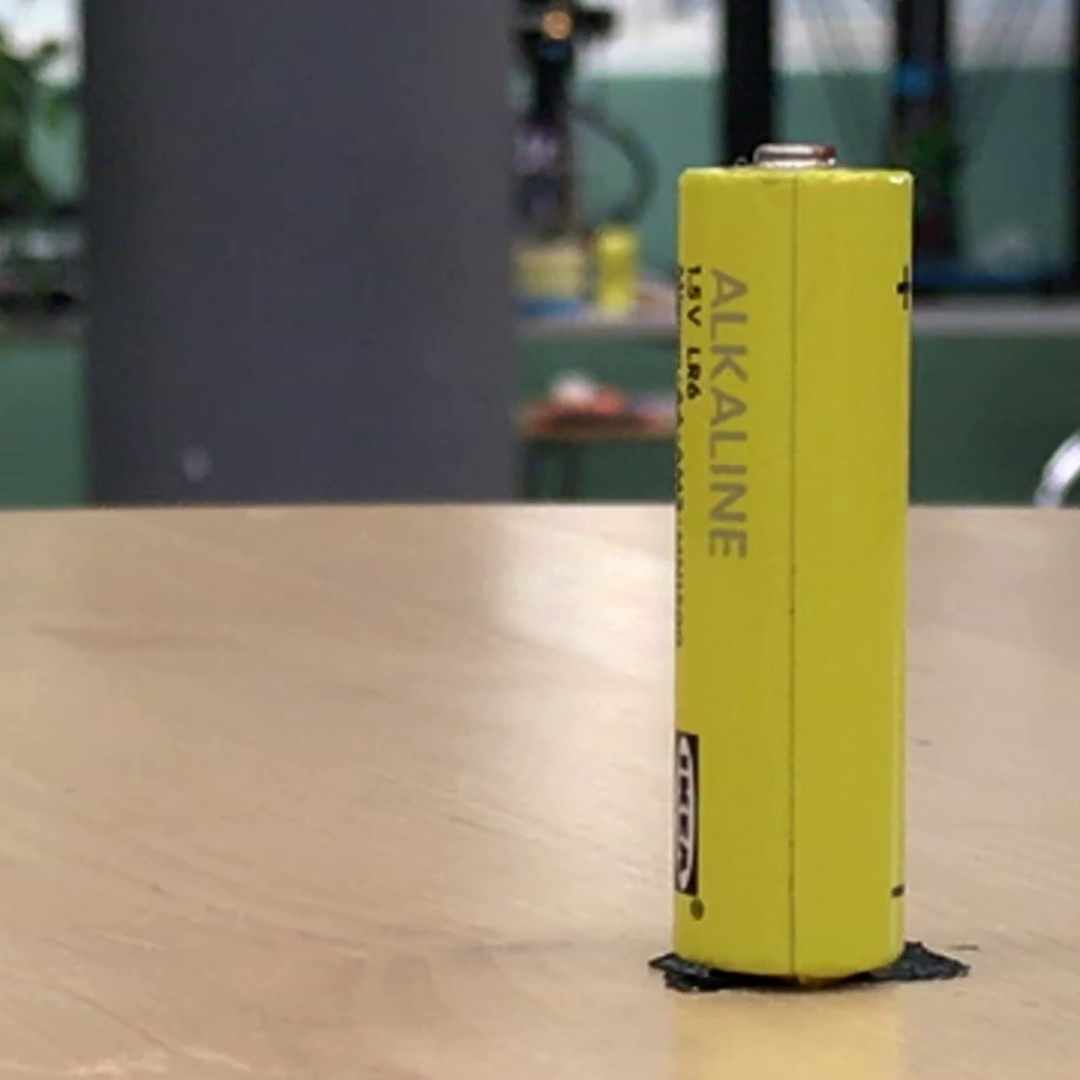keyword: (677, 256, 755, 364)
